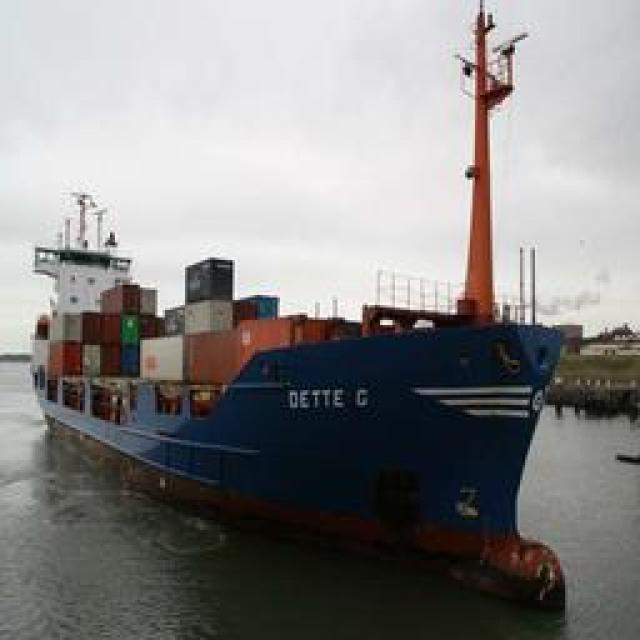ship2: (30, 8, 566, 614)
